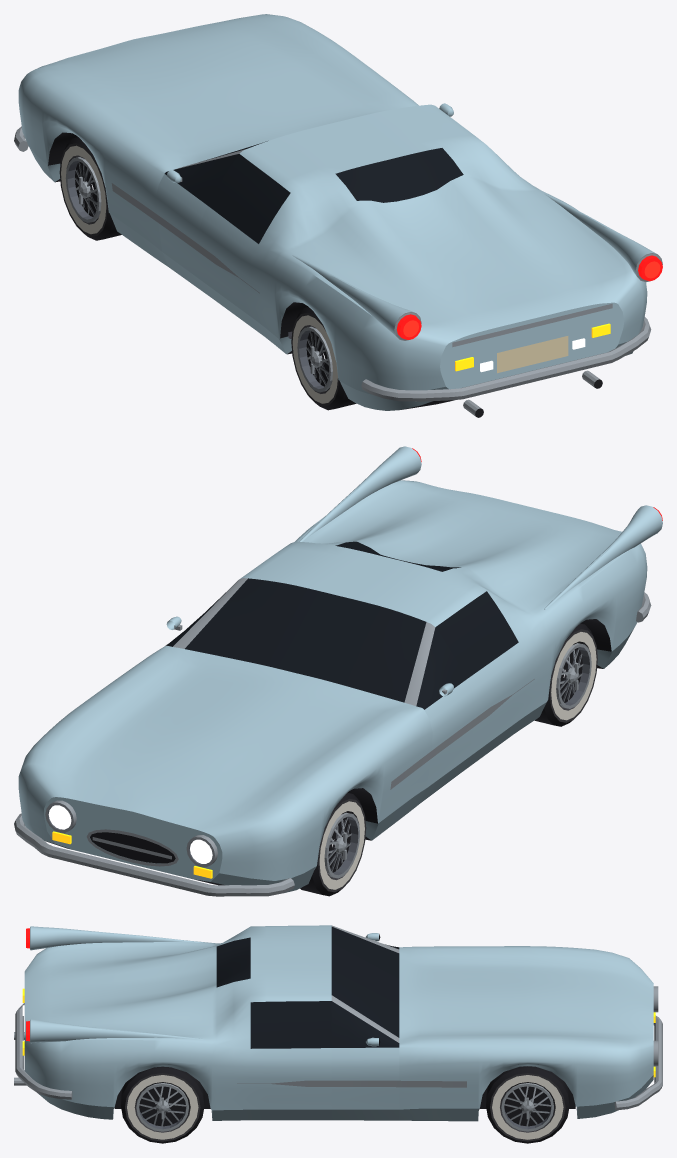
The model's file is coastliner.glb.
3 renders of one model, top to bottom at view 1: azimuth 30°, elevation 25°; view 2: azimuth 150°, elevation 25°; view 3: azimuth 270°, elevation 25°, orthographic. The views are drawn at different scales.
Parts seen in each view (by area): view 1: Body, Tire_FL, Tire_RL, Rim_RL, Rim_FL; view 2: Body, Tire_FL, Tire_RL, Rim_RL, Rim_FL; view 3: Body, Tire_FR, Tire_RR, Rim_RR, Rim_FR.
Part boxes in pixels (left/top/right/bottom): Body: left=14, top=14, right=662, bottom=417; Tire_FL: left=59, top=137, right=121, bottom=240; Tire_RL: left=291, top=307, right=356, bottom=410; Rim_RL: left=297, top=326, right=332, bottom=392; Rim_FL: left=65, top=157, right=101, bottom=222; Body: left=14, top=446, right=662, bottom=896; Tire_FL: left=300, top=792, right=366, bottom=896; Tire_RL: left=534, top=623, right=597, bottom=726; Rim_RL: left=556, top=643, right=591, bottom=708; Rim_FL: left=324, top=812, right=359, bottom=878; Body: left=14, top=925, right=662, bottom=1121; Tire_FR: left=486, top=1066, right=569, bottom=1143; Tire_RR: left=120, top=1066, right=204, bottom=1143; Rim_RR: left=136, top=1083, right=188, bottom=1131; Rim_FR: left=501, top=1083, right=553, bottom=1131.
Size of the model in its own units: 1.9 by 1.13 by 4.8.
